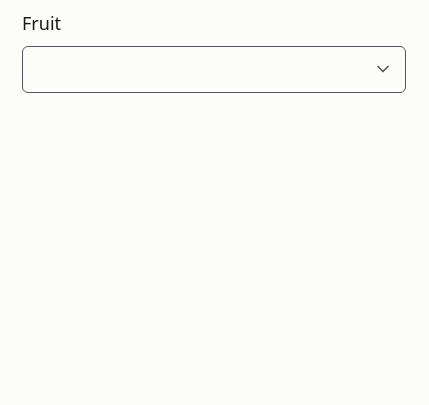
Test case: single selection › opens on click and selects an option with the pointer
What coordinates should you click on to do the following:
click the dropdown
I would click on:
 (192, 69)
Its box is 23,47 -> 361,92.
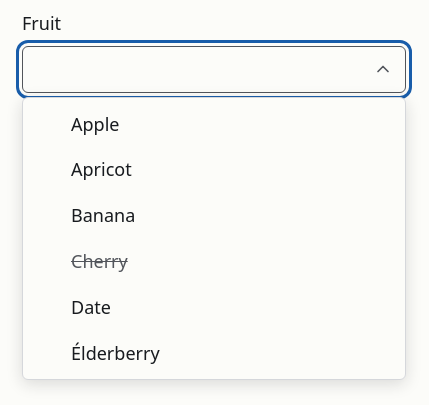
expect the list is shown: met, box 71,112 -> 160,365
What coordinates should you click on to do the following:
click the option "Banana"
I would click on:
 (103, 215)
Its box is 71,203 -> 135,227.
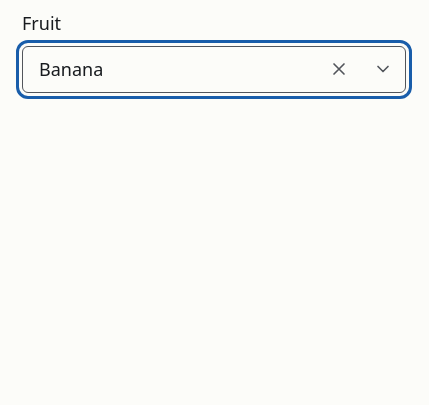
expect the dropdown holds "Banana": met, box 23,47 -> 317,92
expect the dropdown is collapsed: met, box 23,47 -> 317,92
